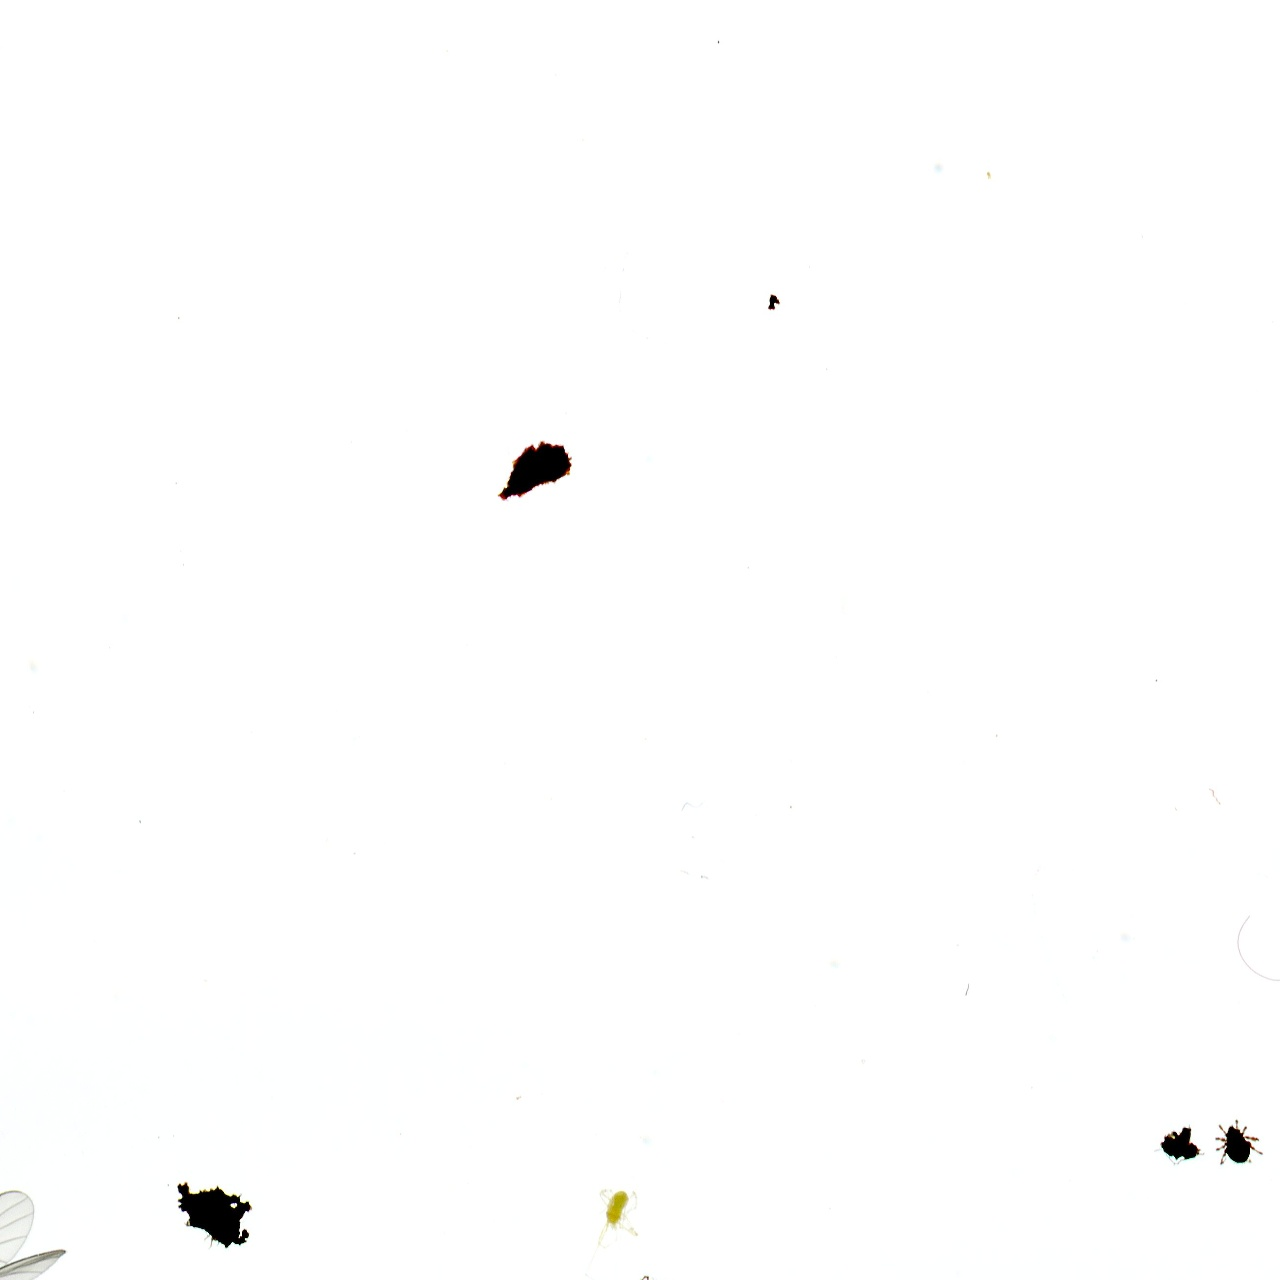arthropod: (0, 1153, 112, 1280), (580, 1184, 642, 1280), (1213, 1118, 1264, 1168), (628, 1272, 679, 1280)
